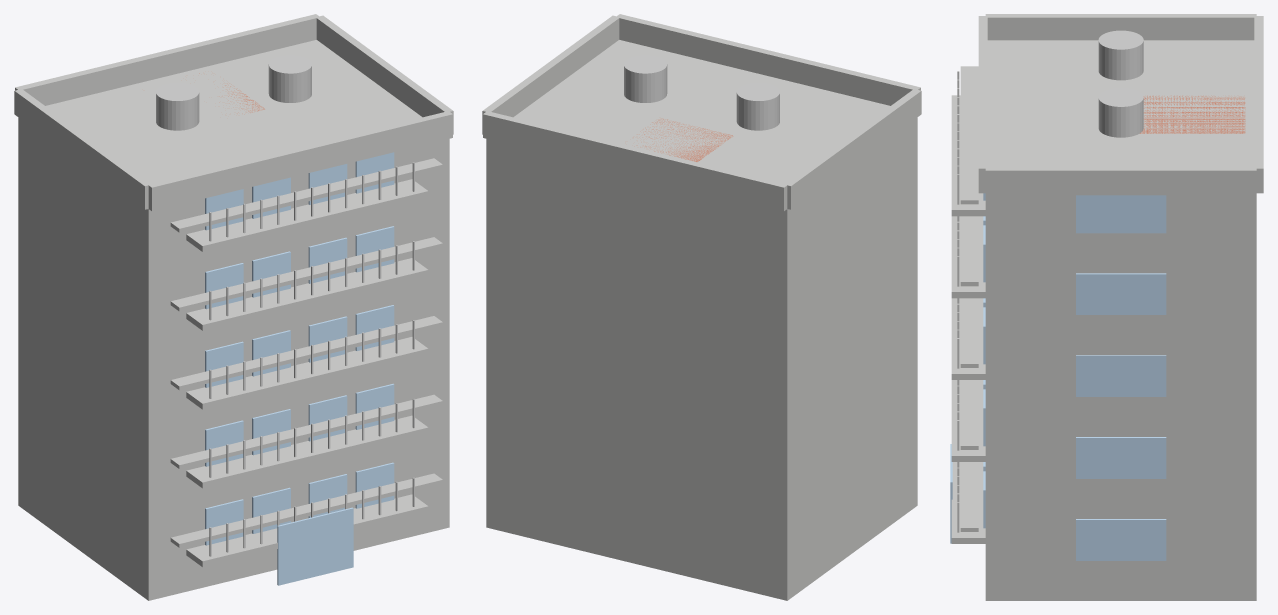
The model's file is apartment2.glb.
3 views of the same model, side by side, from view 1: azimuth 30°, elevation 25°; view 2: azimuth 150°, elevation 25°; view 3: azimuth 270°, elevation 25° (orthographic). The views are drawn at different scales.
Parts seen in each view (by area): view 1: MainBlock, ParapetFront, ParapetBack, Balcony.002, Balcony.004, Balcony.001, Balcony.003, Entry, ParapetSide1, ParapetSide2, Balcony, Shade (+26 smaller); view 2: MainBlock, ParapetBack, ParapetFront, ParapetSide1, ParapetSide2, Cylinder.001, Cylinder, Core; view 3: MainBlock, ParapetSide2, ParapetSide1, SideW, SideW.001, SideW.002, SideW.003, SideW.004, Core, Shade.004, Cylinder, Cylinder.001 (+11 smaller).
Part boxes in pixels (x1,y1,x2,y2): MainBlock: (18, 40, 449, 600); ParapetFront: (148, 111, 452, 211); ParapetBack: (15, 14, 319, 105); Balcony.002: (186, 337, 428, 409); Balcony.004: (186, 179, 428, 251); Balcony.001: (186, 415, 428, 488); Balcony.003: (186, 258, 428, 330); Entry: (277, 507, 353, 585); ParapetSide1: (14, 89, 151, 209); ParapetSide2: (316, 15, 453, 134); Balcony: (186, 494, 428, 567); Shade: (170, 473, 442, 547); MainBlock: (486, 40, 917, 600); ParapetBack: (483, 111, 787, 211); ParapetFront: (616, 14, 920, 105); ParapetSide1: (785, 90, 921, 209); ParapetSide2: (482, 15, 619, 134); Cylinder.001: (624, 55, 667, 102); Cylinder: (736, 82, 779, 130); Core: (633, 118, 733, 161); MainBlock: (985, 40, 1256, 600); ParapetSide2: (985, 167, 1256, 195); ParapetSide1: (985, 14, 1256, 40); SideW: (1076, 519, 1166, 560); SideW.001: (1076, 437, 1166, 478); SideW.002: (1076, 355, 1166, 396); SideW.003: (1076, 273, 1166, 314); SideW.004: (1076, 195, 1166, 233); Core: (1140, 95, 1245, 133); Shade.004: (960, 66, 978, 204); Cylinder: (1098, 30, 1143, 80); Cylinder.001: (1098, 88, 1143, 137).
Bounding box in the file's own units: 16.4 × 22.25 × 13.85.
